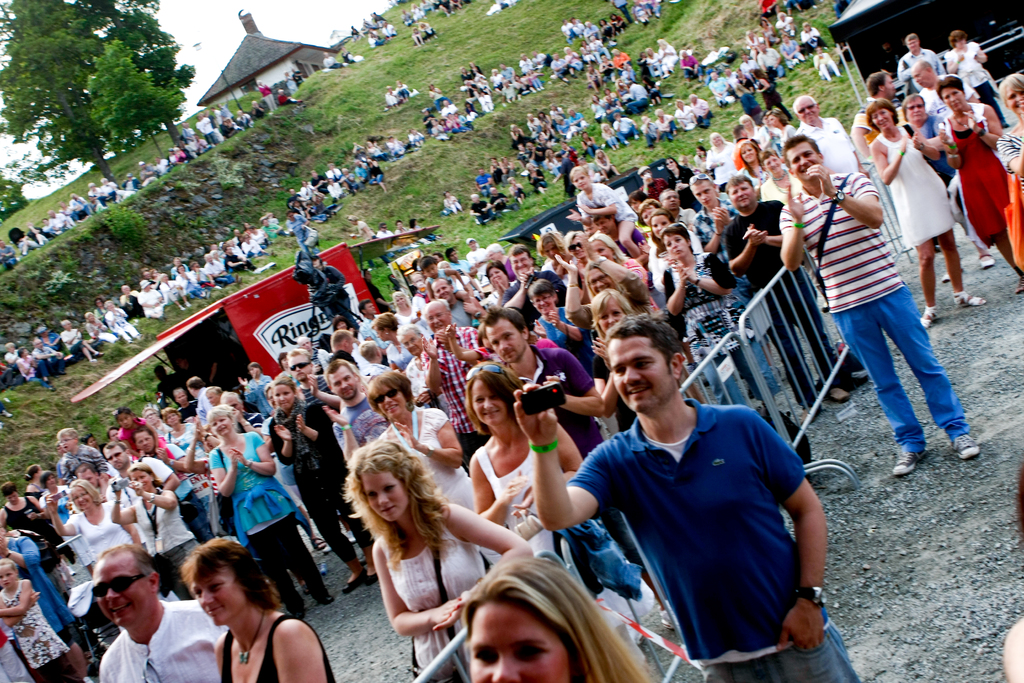Human_hand: (792, 578, 842, 671), (512, 381, 557, 444), (432, 588, 467, 630), (497, 475, 528, 507), (428, 595, 461, 621), (806, 161, 831, 195), (509, 489, 536, 520), (785, 182, 804, 220), (392, 421, 415, 450), (321, 406, 347, 429), (589, 336, 611, 361), (743, 225, 769, 240), (580, 234, 595, 259), (556, 252, 575, 271), (422, 334, 437, 358), (564, 206, 586, 222), (746, 224, 760, 249), (227, 446, 247, 463), (671, 266, 688, 286), (307, 374, 322, 395), (272, 424, 292, 438), (714, 205, 727, 225), (962, 113, 978, 129), (155, 444, 170, 461), (532, 316, 546, 334), (231, 406, 243, 426), (46, 494, 60, 511), (677, 263, 691, 280), (548, 308, 559, 329), (294, 413, 306, 432), (227, 450, 242, 464), (463, 300, 476, 316), (716, 205, 724, 230), (445, 324, 458, 339), (491, 280, 506, 293), (937, 129, 950, 144), (126, 479, 142, 491), (639, 242, 651, 258), (109, 479, 121, 494), (576, 202, 593, 212), (753, 174, 763, 191), (0, 534, 7, 557), (29, 589, 37, 609), (518, 268, 528, 283), (671, 185, 681, 200), (899, 136, 908, 152), (239, 375, 250, 388), (361, 383, 371, 396), (677, 180, 688, 191), (638, 175, 653, 183), (912, 133, 919, 150), (497, 279, 506, 292), (1018, 106, 1023, 129), (27, 509, 37, 520), (10, 530, 21, 539), (266, 407, 276, 415), (956, 52, 964, 62), (760, 170, 768, 176)
